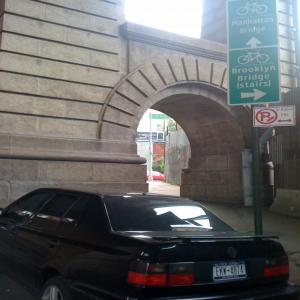Vehicle-registration-plate: (215, 263, 258, 283)
